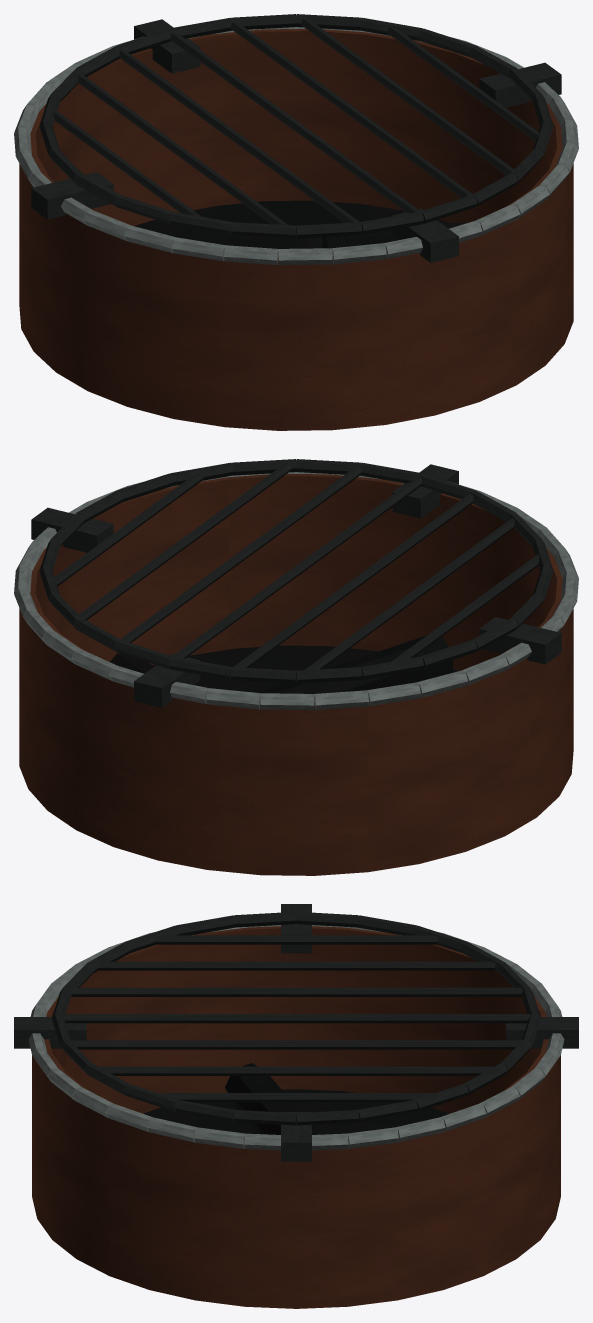
Rendered from level_camp_fire_ring_refined.glb.
3 renders of one model, top to bottom at view 1: azimuth 30°, elevation 25°; view 2: azimuth 150°, elevation 25°; view 3: azimuth 270°, elevation 25°, orthographic. The views are drawn at different scales.
Parts seen in each view (by area): view 1: level_camp_fire_ring_refined; view 2: level_camp_fire_ring_refined; view 3: level_camp_fire_ring_refined.
Boxes of the visible parts, x1,y1,x2,y2 form: level_camp_fire_ring_refined: (14, 14, 578, 430); level_camp_fire_ring_refined: (14, 459, 578, 875); level_camp_fire_ring_refined: (14, 904, 578, 1308).
Size of the model in its own units: 1.09 by 0.3904 by 1.09.
Materials: 4 (4 with a texture image).
